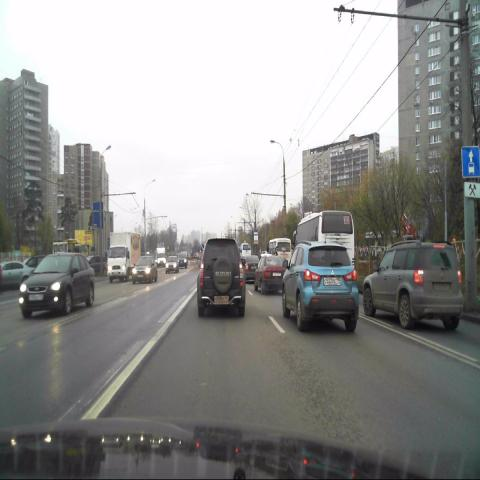5_14: (461, 146, 480, 178)
